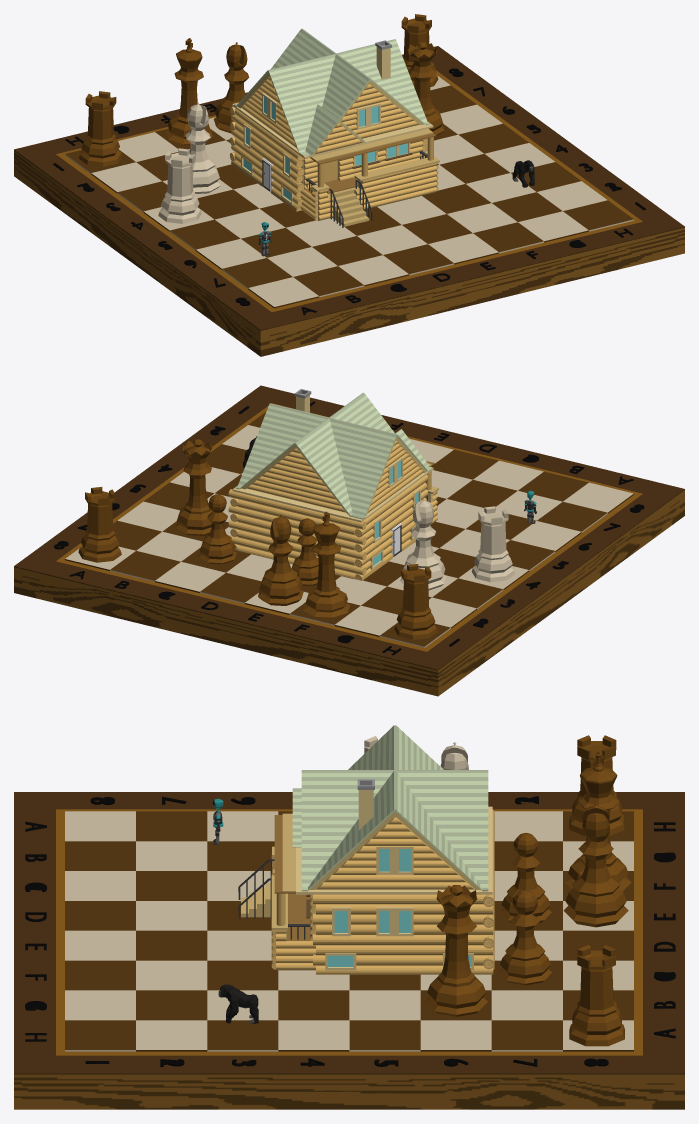
3 renders of one model, top to bottom at view 1: azimuth 30°, elevation 25°; view 2: azimuth 150°, elevation 25°; view 3: azimuth 270°, elevation 25°, orthographic. The views are drawn at different scales.
Parts seen in each view (by area): view 1: Cube.002, Cube.1516; view 2: Cube.002, Cube.1516; view 3: Cube.002, Cube.1516, ANIMAL_GORILA.
Boxes of the visible parts, box(x1,y1,x2,y2) form: Cube.002: box(14, 14, 684, 356); Cube.1516: box(230, 28, 439, 227); Cube.002: box(14, 385, 684, 696); Cube.1516: box(228, 389, 438, 580); Cube.002: box(14, 735, 684, 1109); Cube.1516: box(238, 725, 494, 974); ANIMAL_GORILA: box(218, 984, 258, 1023).
Bounding box in the file's own units: 3981 × 1484 × 4012.
Materials: 30 (3 with a texture image).
